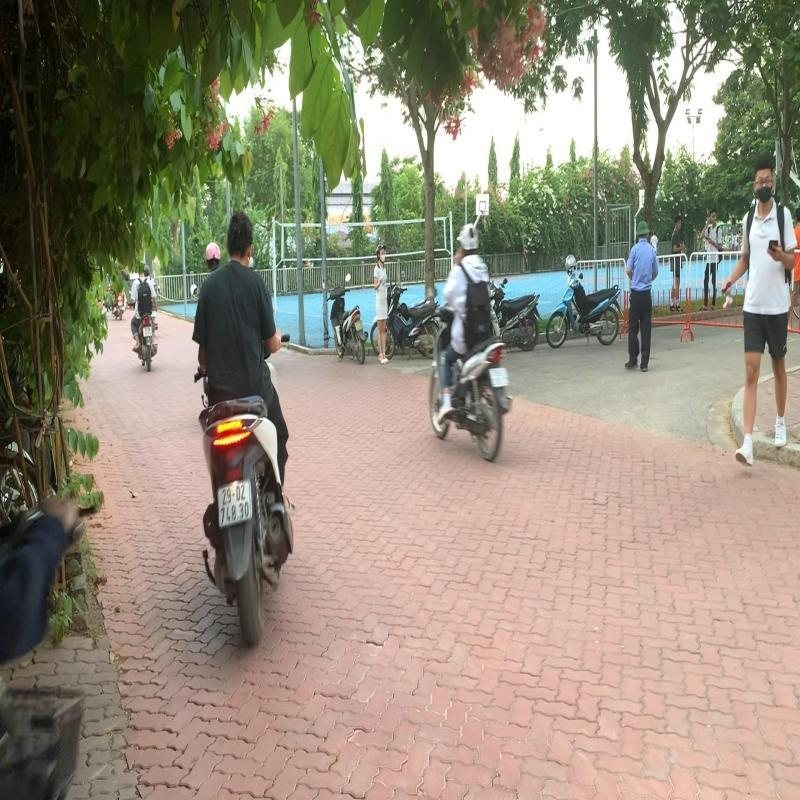nohelmet: (223, 208, 256, 264)
